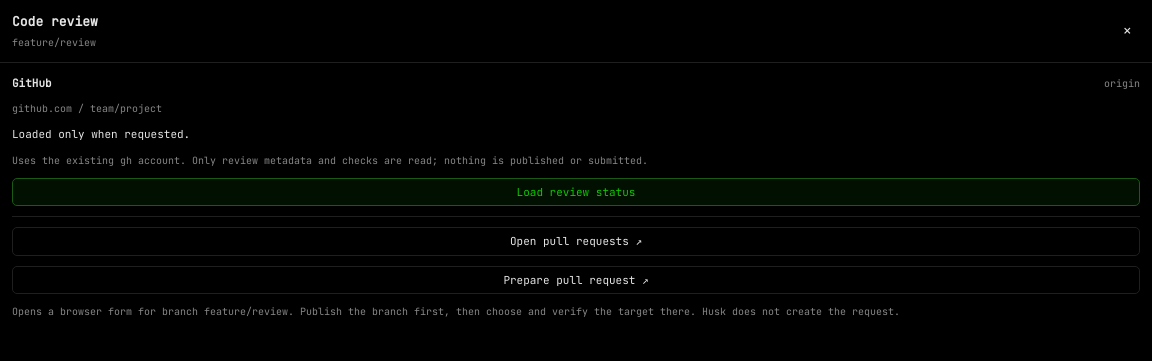
it: reports browser opening failures without losing review information
Step 1. Click the button "Open pull requests ↗" → (576, 241), box 12,227 -> 1140,256
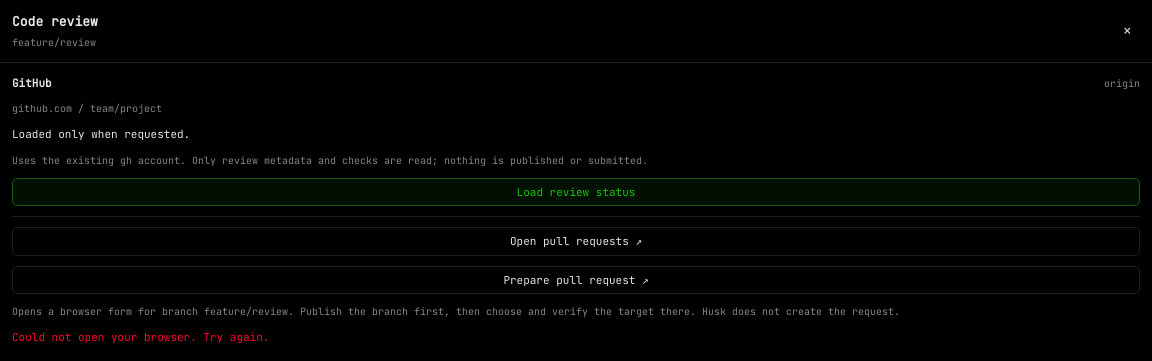
Expected: the message "Could not open your browser. Try again." is shown, 12,330 -> 269,344
